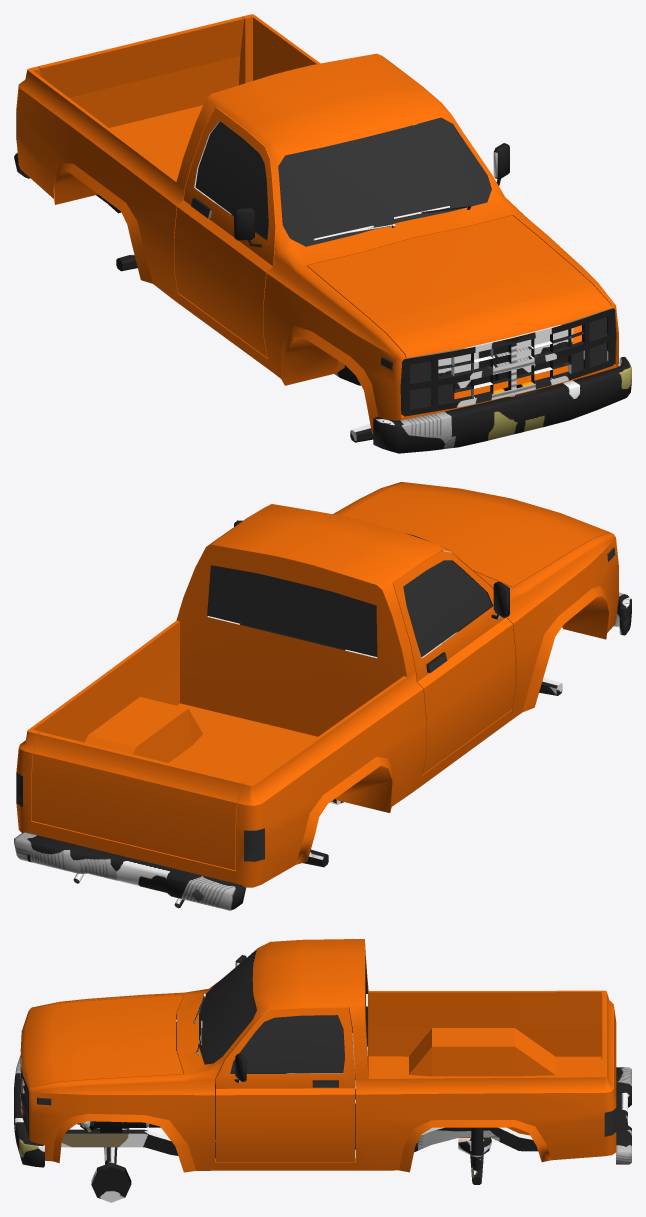
File: F_GMS_4x4.FBX
3 views of the same model, one above another, from view 1: azimuth 30°, elevation 25°; view 2: azimuth 150°, elevation 25°; view 3: azimuth 270°, elevation 25° (orthographic). The views are drawn at different scales.
Parts seen in each view (by area): view 1: GMS_4x4_Body, GMS_4x4_Hood, GMS_4x4_Body_Glass_Front, GMS_4x4_Trunk, GMS_4x4_Door_Right, GMS_4x4_Bumper_Front, GMS_4x4_Body_Glass_Right, GMS_4x4_Body_MainLight_FR, GMS_4x4_Body_MainLight_FL; view 2: GMS_4x4_Body, GMS_4x4_Trunk, GMS_4x4_Hood, GMS_4x4_Door_Right, GMS_4x4_Body_Glass_Rear, GMS_4x4_Bumper_Rear, GMS_4x4_Body_Glass_Right; view 3: GMS_4x4_Body, GMS_4x4_Door_Left, GMS_4x4_Hood, GMS_4x4_Body_Glass_Left, GMS_4x4_Body_Glass_Front, GMS_4x4_Bumper_Rear, GMS_4x4_Bumper_Front, GMS_4x4_WheelHub, GMS_4x4_Trunk, GMS_4x4_AxisRear, GMS_4x4_Body_ShockAbsorber_Up.
Part boxes in pixels (left/top/right/bottom): GMS_4x4_Body: left=16, top=14, right=618, bottom=434; GMS_4x4_Hood: left=307, top=215, right=611, bottom=357; GMS_4x4_Body_Glass_Front: left=278, top=117, right=491, bottom=246; GMS_4x4_Trunk: left=38, top=16, right=244, bottom=127; GMS_4x4_Door_Right: left=174, top=107, right=275, bottom=357; GMS_4x4_Bumper_Front: left=373, top=357, right=631, bottom=453; GMS_4x4_Body_Glass_Right: left=195, top=121, right=268, bottom=239; GMS_4x4_Body_MainLight_FR: left=410, top=361, right=453, bottom=408; GMS_4x4_Body_MainLight_FL: left=571, top=316, right=606, bottom=365; GMS_4x4_Body: left=16, top=482, right=618, bottom=908; GMS_4x4_Trunk: left=31, top=732, right=243, bottom=870; GMS_4x4_Hood: left=341, top=482, right=609, bottom=587; GMS_4x4_Door_Right: left=392, top=550, right=515, bottom=774; GMS_4x4_Body_Glass_Rear: left=208, top=565, right=377, bottom=656; GMS_4x4_Bumper_Rear: left=14, top=832, right=245, bottom=910; GMS_4x4_Body_Glass_Right: left=403, top=560, right=492, bottom=657; GMS_4x4_Body: left=20, top=939, right=616, bottom=1172; GMS_4x4_Door_Left: left=215, top=1007, right=354, bottom=1161; GMS_4x4_Hood: left=20, top=995, right=183, bottom=1089; GMS_4x4_Body_Glass_Left: left=230, top=1015, right=344, bottom=1073; GMS_4x4_Body_Glass_Front: left=199, top=950, right=256, bottom=1064; GMS_4x4_Bumper_Rear: left=616, top=1067, right=631, bottom=1164; GMS_4x4_Bumper_Front: left=14, top=1056, right=44, bottom=1167; GMS_4x4_WheelHub: left=91, top=1162, right=131, bottom=1202; GMS_4x4_Trunk: left=602, top=995, right=616, bottom=1101; GMS_4x4_AxisRear: left=458, top=1137, right=492, bottom=1184; GMS_4x4_Body_ShockAbsorber_Up: left=471, top=1127, right=483, bottom=1157.
Size of what is drawn, in the model's own units: 1800 by 1538 by 4474.
